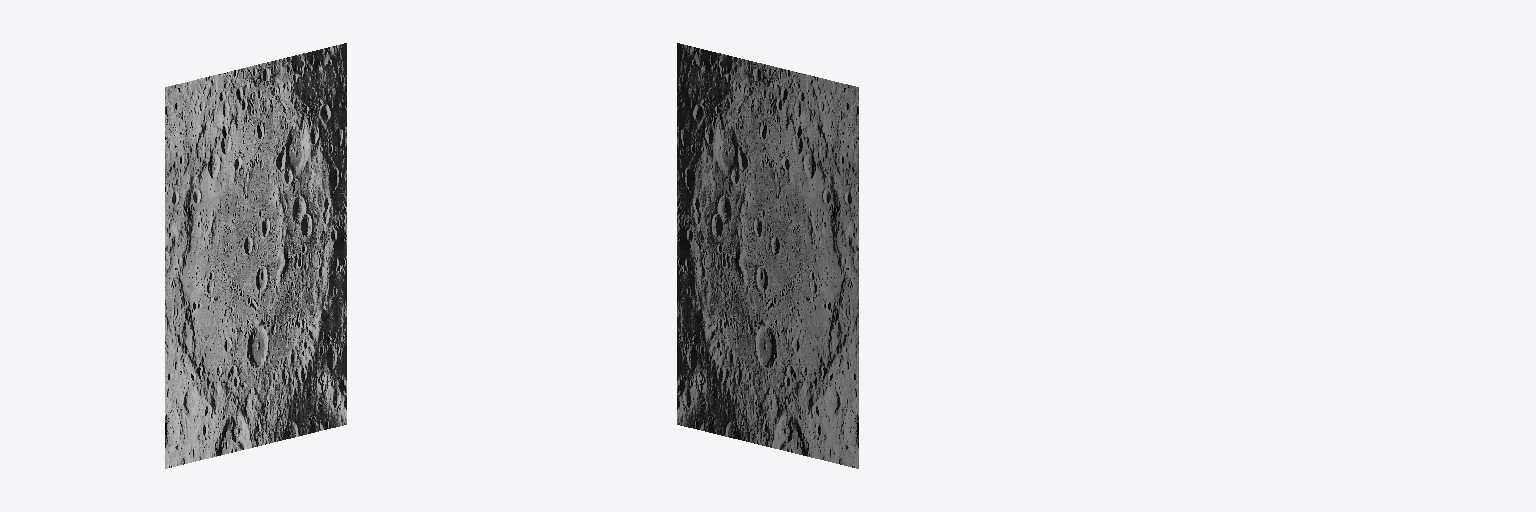
The picture shows the model from 3 angles: view 1: azimuth 30°, elevation 25°; view 2: azimuth 150°, elevation 25°; view 3: azimuth 270°, elevation 25°; orthographic projection.
Parts seen in each view (by area): view 1: Plane001; view 2: Plane001; view 3: none.
Part boxes in pixels (bbox=[...]): Plane001: bbox=[165, 43, 346, 468]; Plane001: bbox=[677, 43, 858, 468].
Size of the model in its own units: 200 by 400 by 0.
1 materials, 1 textured.